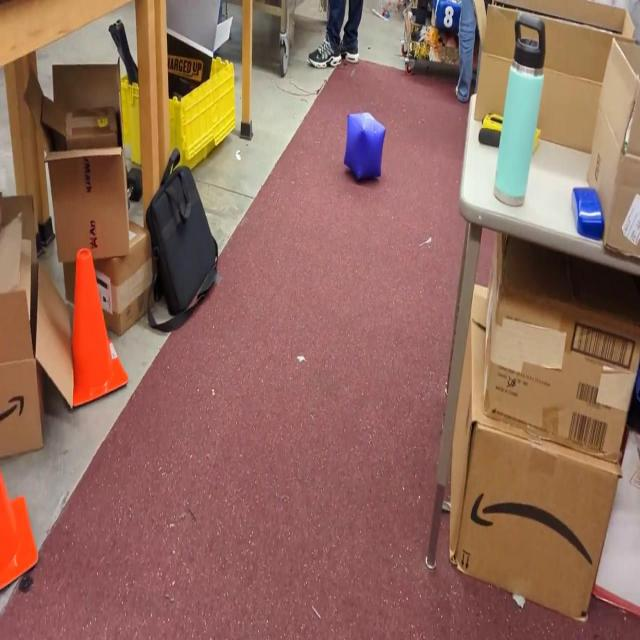frc_cube: (344, 109, 386, 183)
